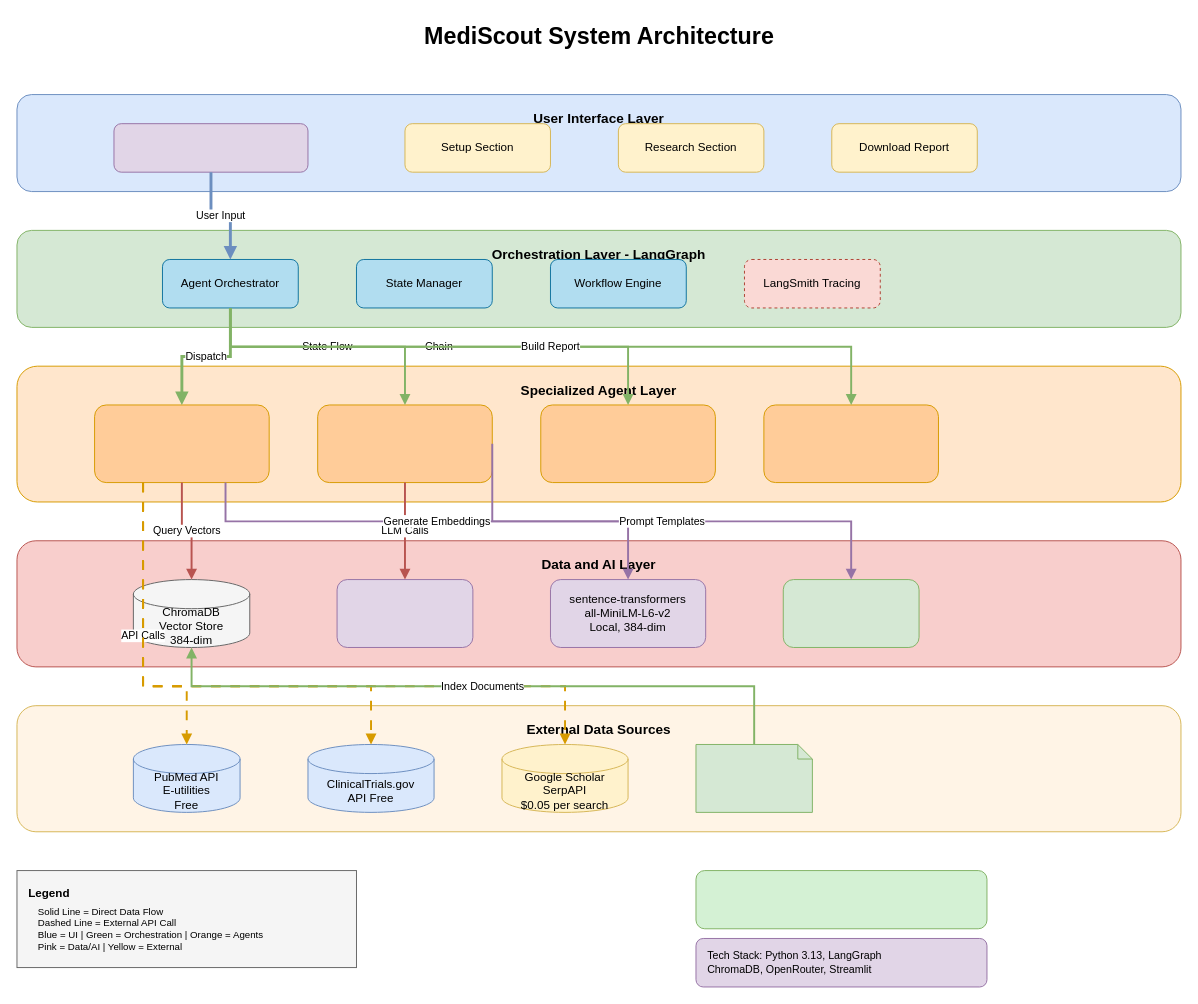
The diagram is 1198 pixels wide and 1004 high, and some of its shapes have lost their labels. Here are the shapes that lost their labels. From the top down, the centre of each, then its label:
(210,147): Streamlit Web UI
(181,443): Contextual Retriever Agent (RAG Pattern)
(404,443): Critical Analysis Agent (Study Extraction)
(627,443): Insight Generation Agent (Hypothesis Gen)
(850,443): Report Builder Agent (Markdown + Citations)
(404,613): OpenRouter Llama 3.1 70B FREE
(850,613): LangChain Prompt Templates
(753,778): User Documents PDF/TXT/CSV Local
(841,899): Total Cost: $0-$0.05 per query OpenRouter free models + Local embeddings
